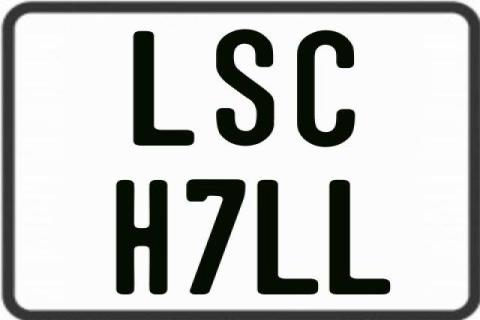0: (184, 179, 245, 295)
C: (296, 29, 358, 145)
H: (116, 180, 166, 298)
L: (254, 178, 321, 294), (327, 178, 390, 294), (132, 31, 194, 147)
S: (216, 27, 274, 143)
